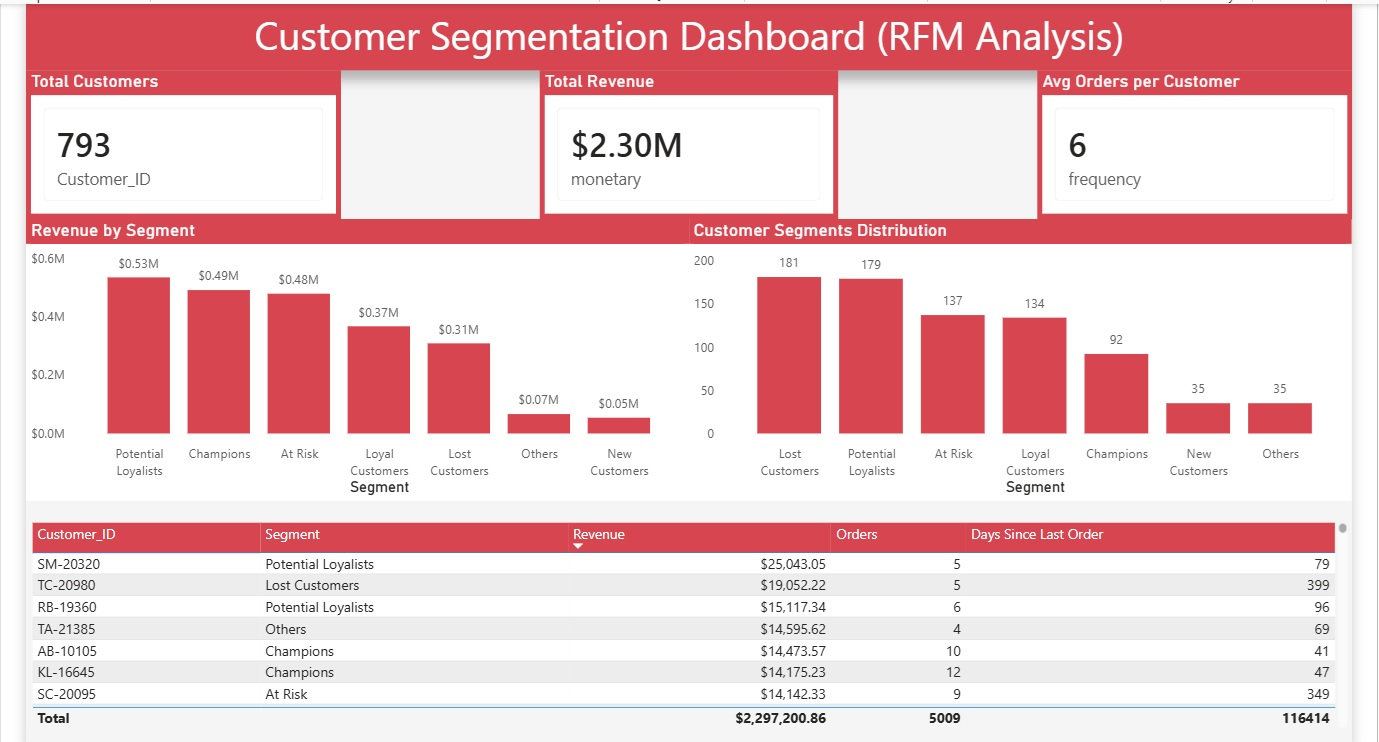

This screenshot's page, from the dashboard's own definition file:
{"tool":"powerbi","page":{"name":"Page 1","canvas":[1280,720],"ordinal":0},"visuals":[{"type":"textbox","box":[0,0,1280,64],"z":0},{"type":"cardVisual","title":"Total Customers","fields":{"Data":["Count(rfm_segmentation.Customer_ID)"]},"box":[0,64,304,144],"z":1000},{"type":"cardVisual","title":"Total Revenue","fields":{"Data":["Sum(rfm_segmentation.monetary)"]},"box":[496,64,288,144],"z":2000},{"type":"cardVisual","title":"Avg Orders per Customer","fields":{"Data":["Avg(rfm_segmentation.frequency)"]},"box":[976,64,304,144],"z":3000},{"type":"clusteredColumnChart","title":"Customer Segments Distribution","fields":{"Category":["rfm_segmentation.Segment"],"Y":["Count(rfm_segmentation.Customer_ID)"]},"box":[640,208,640,272],"z":4000},{"type":"clusteredColumnChart","title":"Revenue by Segment","fields":{"Category":["rfm_segmentation.Segment"],"Y":["Sum(rfm_segmentation.monetary)"]},"box":[0,208,640,272],"z":5000},{"type":"tableEx","fields":{"Values":["rfm_segmentation.Customer_ID","rfm_segmentation.Segment","Sum(rfm_segmentation.monetary)","Sum(rfm_segmentation.frequency)","Sum(rfm_segmentation.recency)"]},"box":[0,496,1280,208],"z":6000}]}

Visuals, with their boxes on the page's 1280x720 design canvas (x1, y1, x2, y2). These are canvas units, not pixel positions in the 1379x742 screenshot, which may show the page scaled, cropped or inside an application window:
textbox: (0, 0, 1280, 64)
"Total Customers" cardVisual: (0, 64, 304, 208)
"Total Revenue" cardVisual: (496, 64, 784, 208)
"Avg Orders per Customer" cardVisual: (976, 64, 1280, 208)
"Customer Segments Distribution" clusteredColumnChart: (640, 208, 1280, 480)
"Revenue by Segment" clusteredColumnChart: (0, 208, 640, 480)
tableEx - rfm_segmentation.Customer_ID x rfm_segmentation.Segment: (0, 496, 1280, 704)
